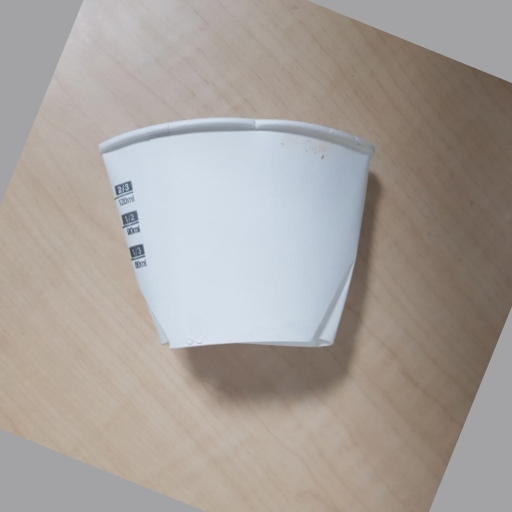Paper_1: (96, 115, 372, 357)
